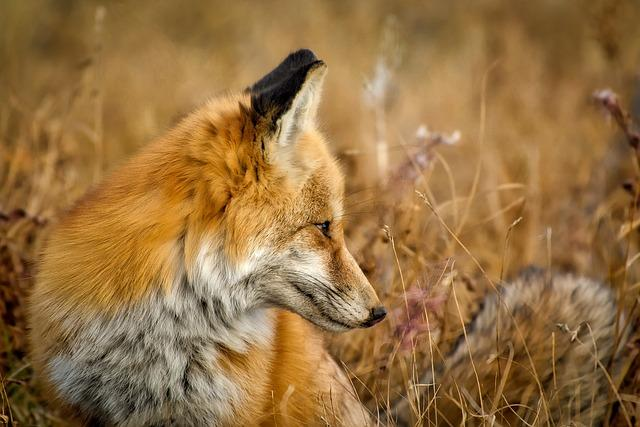Non_Gorille: (40, 26, 410, 418)
